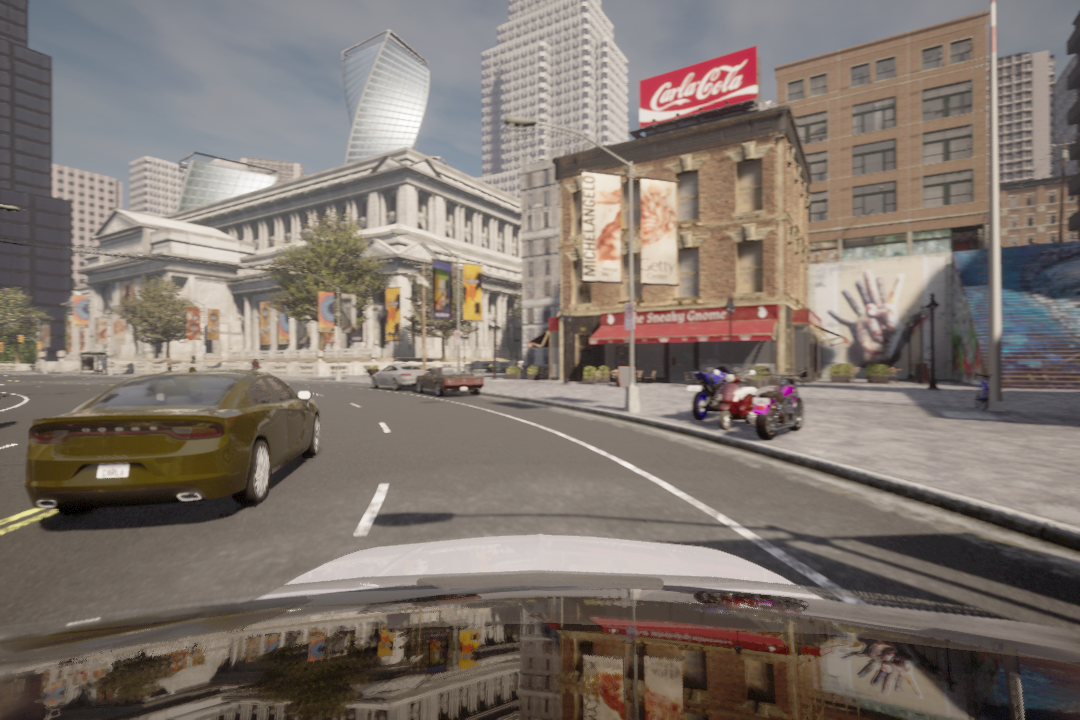TrafficSign_nstop: (624, 304, 635, 331)
